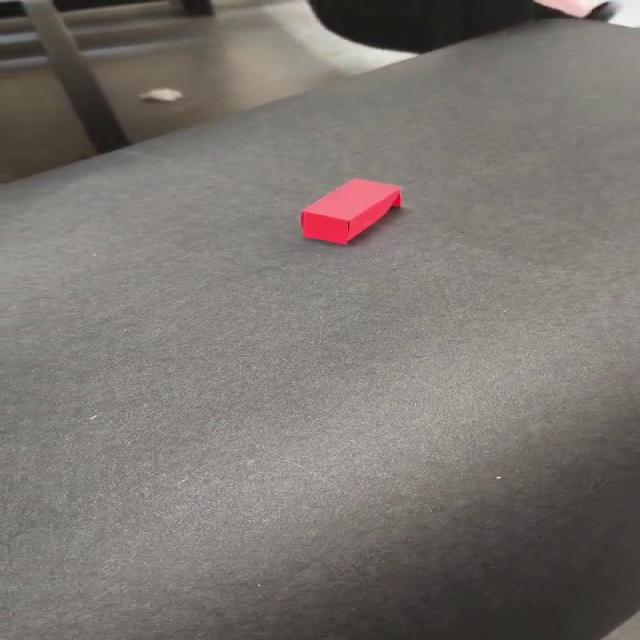red block: (298, 177, 402, 245)
